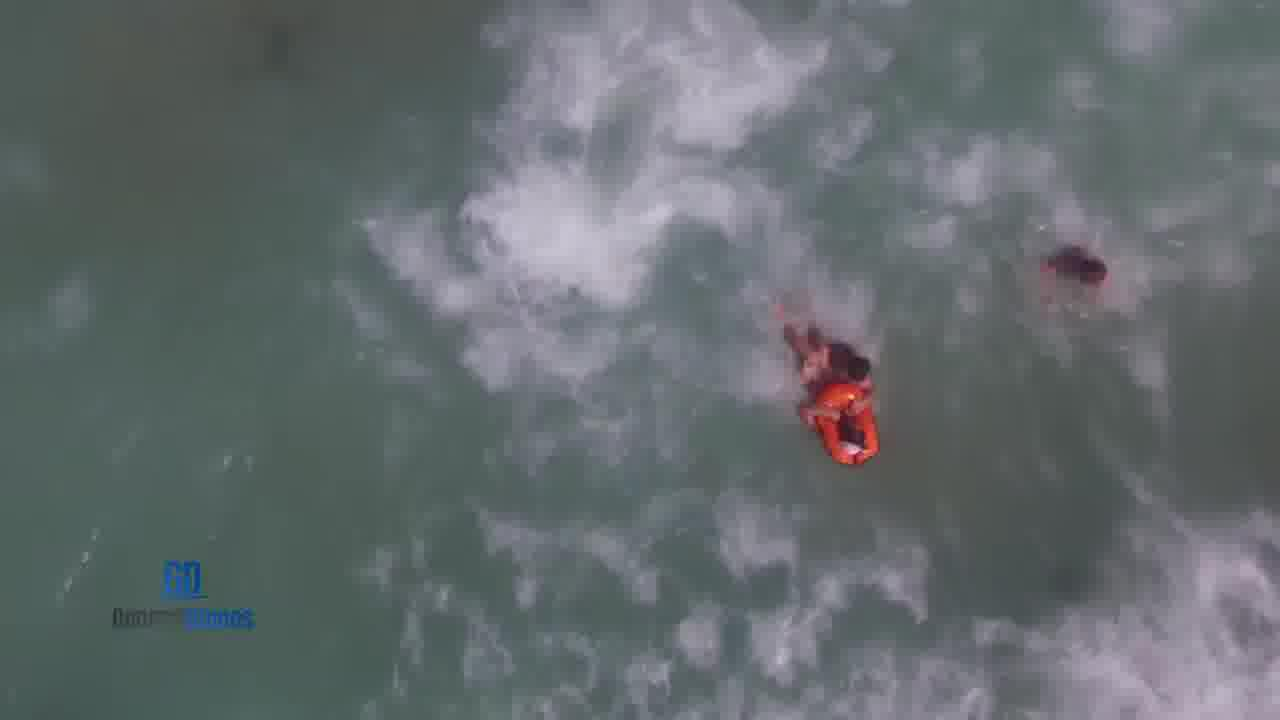human: (795, 319, 885, 439), (1024, 228, 1130, 298), (836, 333, 894, 409)
